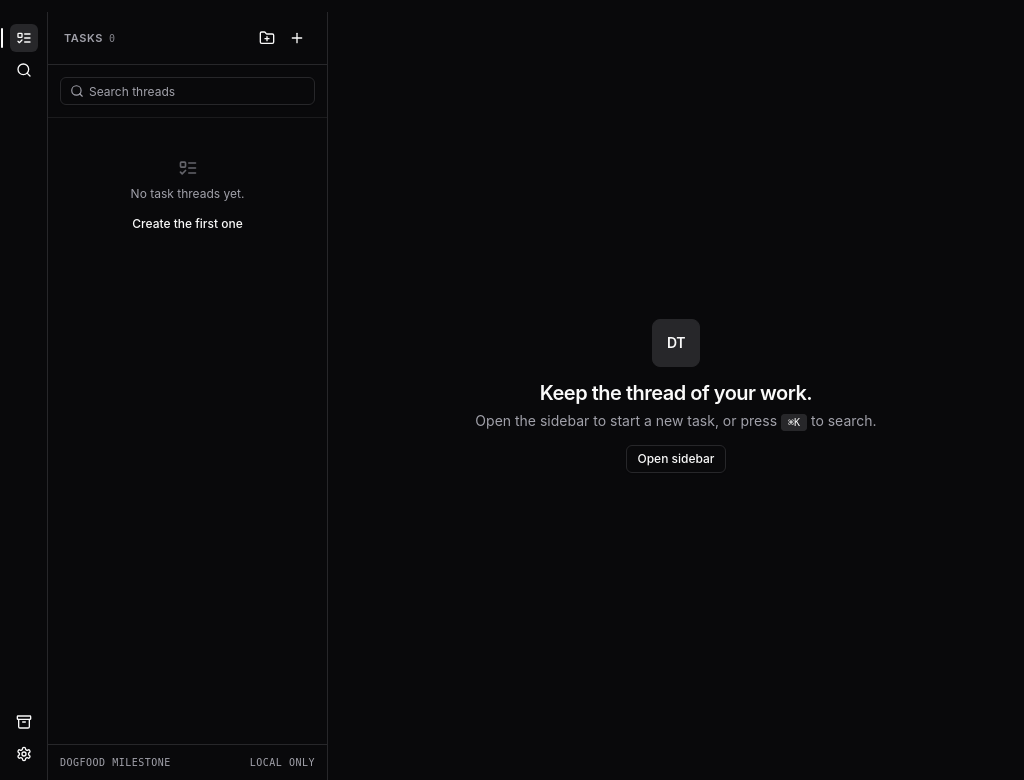
TaskHeader › toggles the task sidebar from the app rail
Click the button named "Hide task sidebar": (24, 38) 10,24 -> 38,52
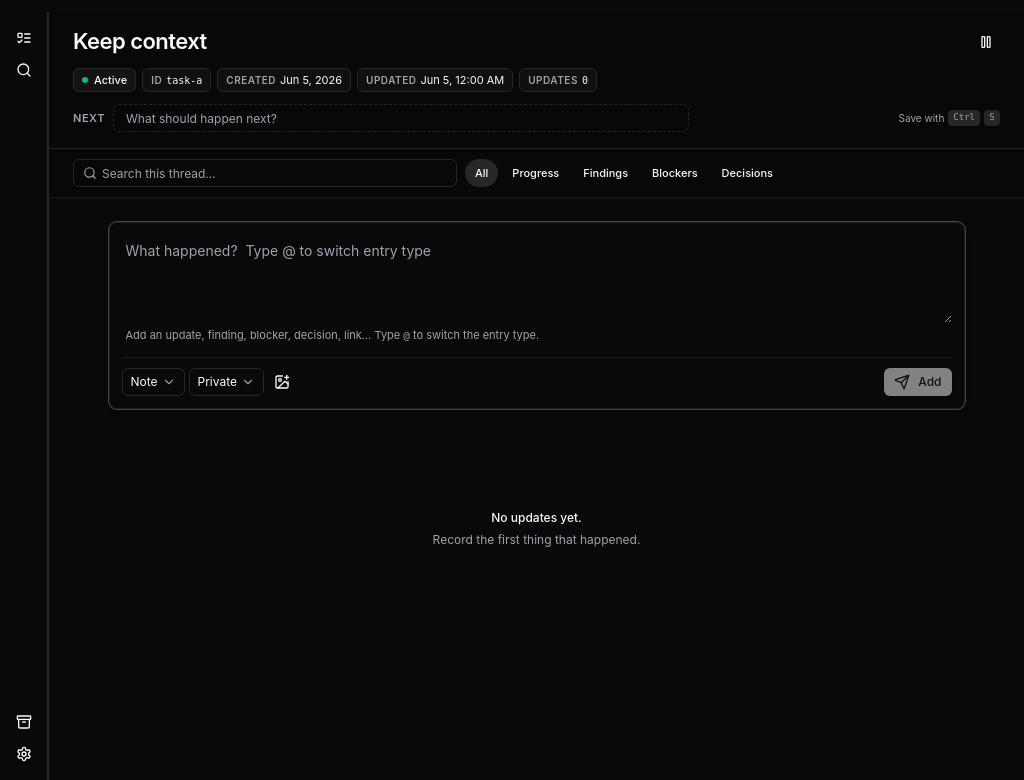
Expected: the button named "Show task sidebar" is shown
Click the button named "Show task sidebar": (24, 38) 10,24 -> 38,52
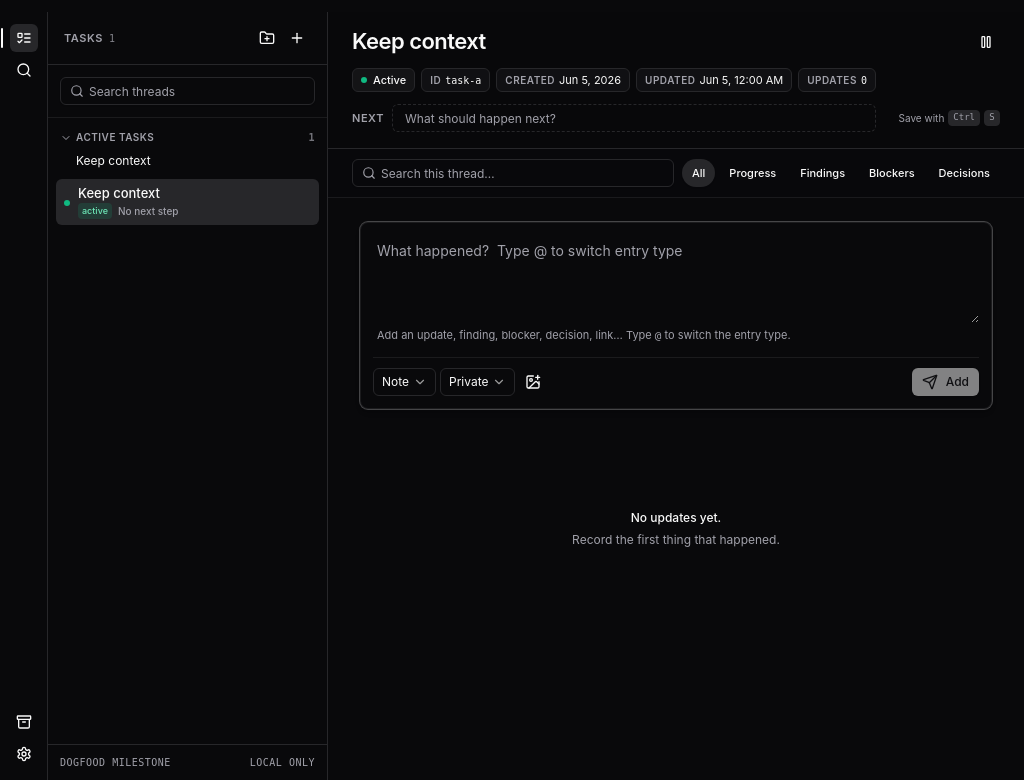
Expected: the button named "Hide task sidebar" is shown, 10,24 -> 38,52
Expected: the button named "Resize task sidebar" is shown, 323,12 -> 327,779
